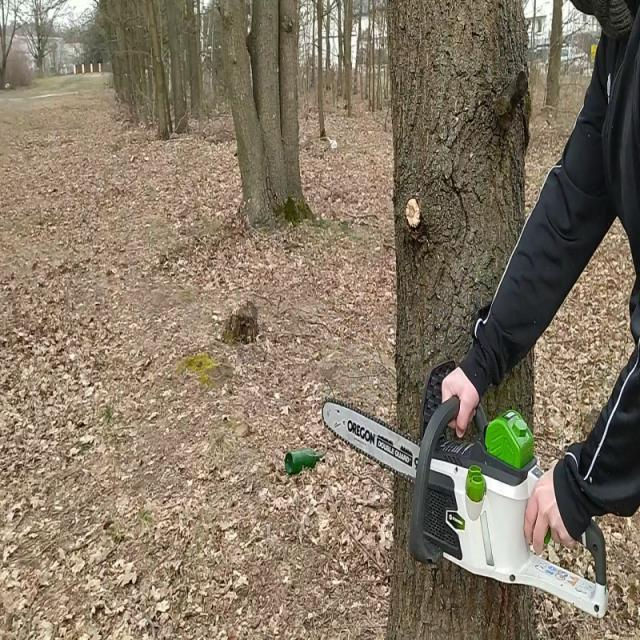Chainsaw: (314, 394, 614, 624)
